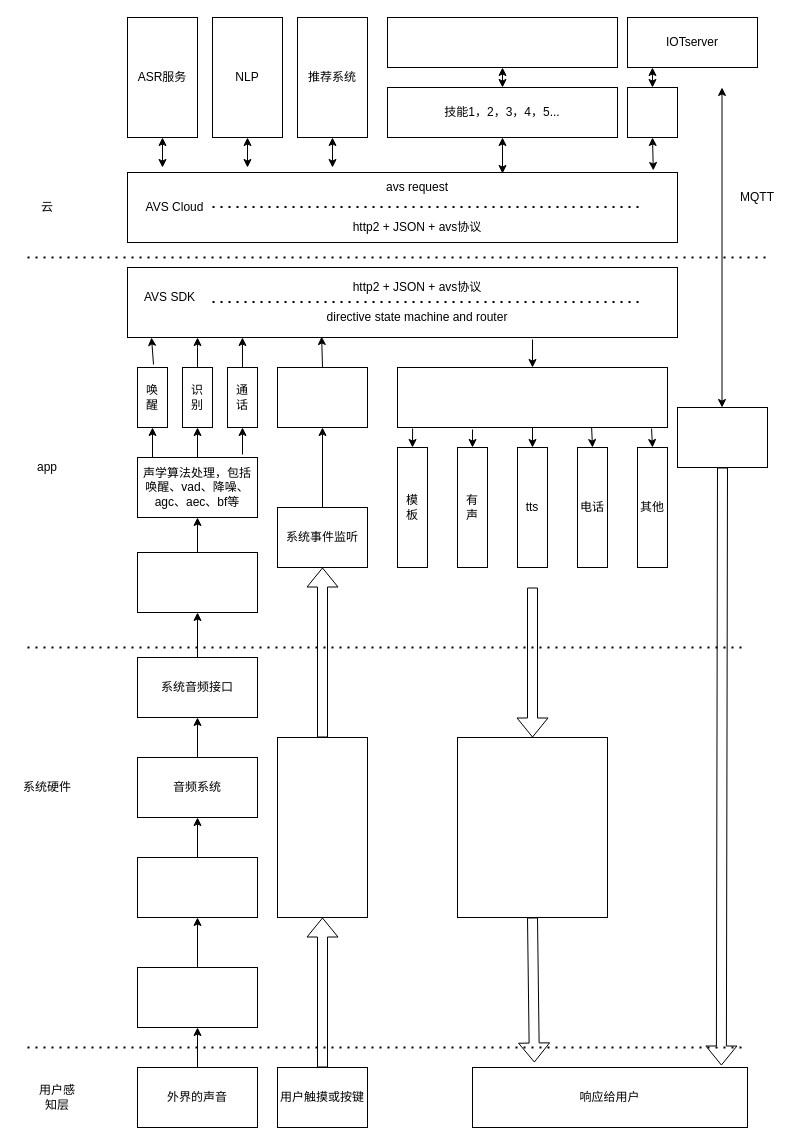
Some shapes in this 794 by 1145 pixel diagram are drawn without their labels. The centre of each missing label's shape, as x and y in pixels:
"directive 1，2，3，4，5..." belongs at pixel 532 397.
"event" belongs at pixel 322 397.
"IOT device" belongs at pixel 722 437.
"IOT技能" belongs at pixel 652 112.
"MIC或者麦克风阵列" belongs at pixel 197 997.
"屏幕、喇叭、 天线、马达等" belongs at pixel 532 827.
"屏幕、按键 传感器" belongs at pixel 322 827.
"系统驱动" belongs at pixel 197 887.
"调用接口采集原始音频" belongs at pixel 197 582.
"资源服务" belongs at pixel 502 42.
